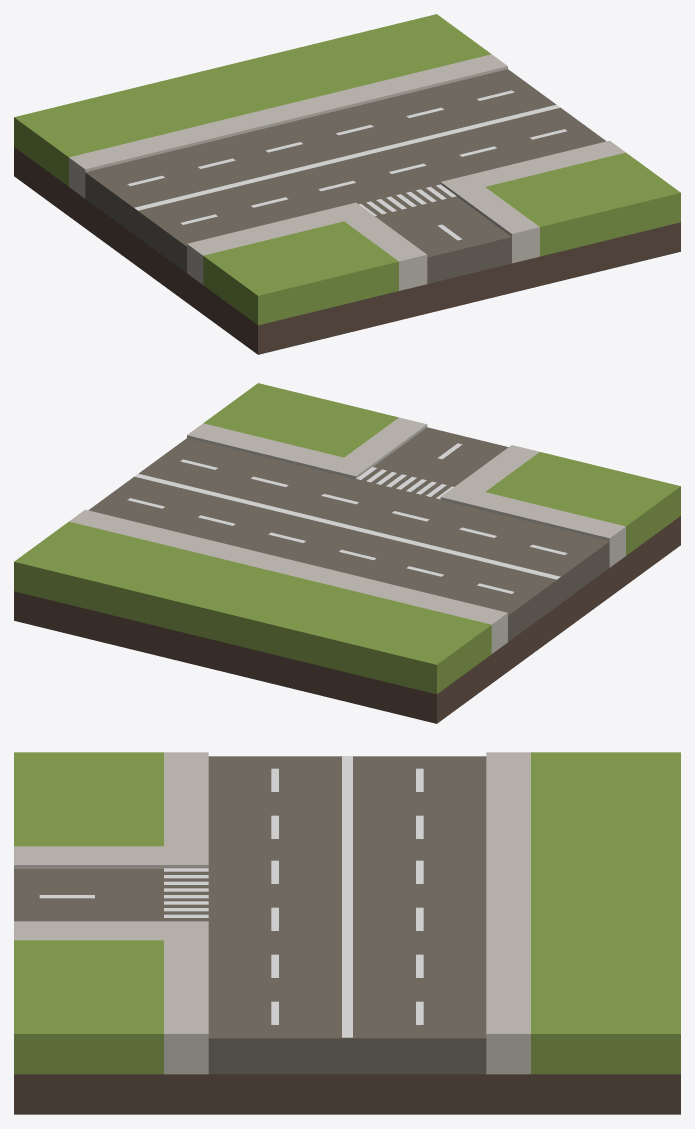
File: mainroad-tile-crossing-T.fbx
The picture shows the model from 3 angles, top to bottom: view 1: azimuth 30°, elevation 25°; view 2: azimuth 150°, elevation 25°; view 3: azimuth 270°, elevation 25°; orthographic projection. The views are drawn at different scales.
Parts seen in each view (by area): view 1: mainroad-tile-crossing-T; view 2: mainroad-tile-crossing-T; view 3: mainroad-tile-crossing-T.
Boxes of the visible parts, x1,y1,x2,y2 form: mainroad-tile-crossing-T: (14, 14, 680, 354); mainroad-tile-crossing-T: (14, 383, 680, 723); mainroad-tile-crossing-T: (14, 752, 680, 1114).
Size of the model in its own units: 3000 by 400 by 3000.
